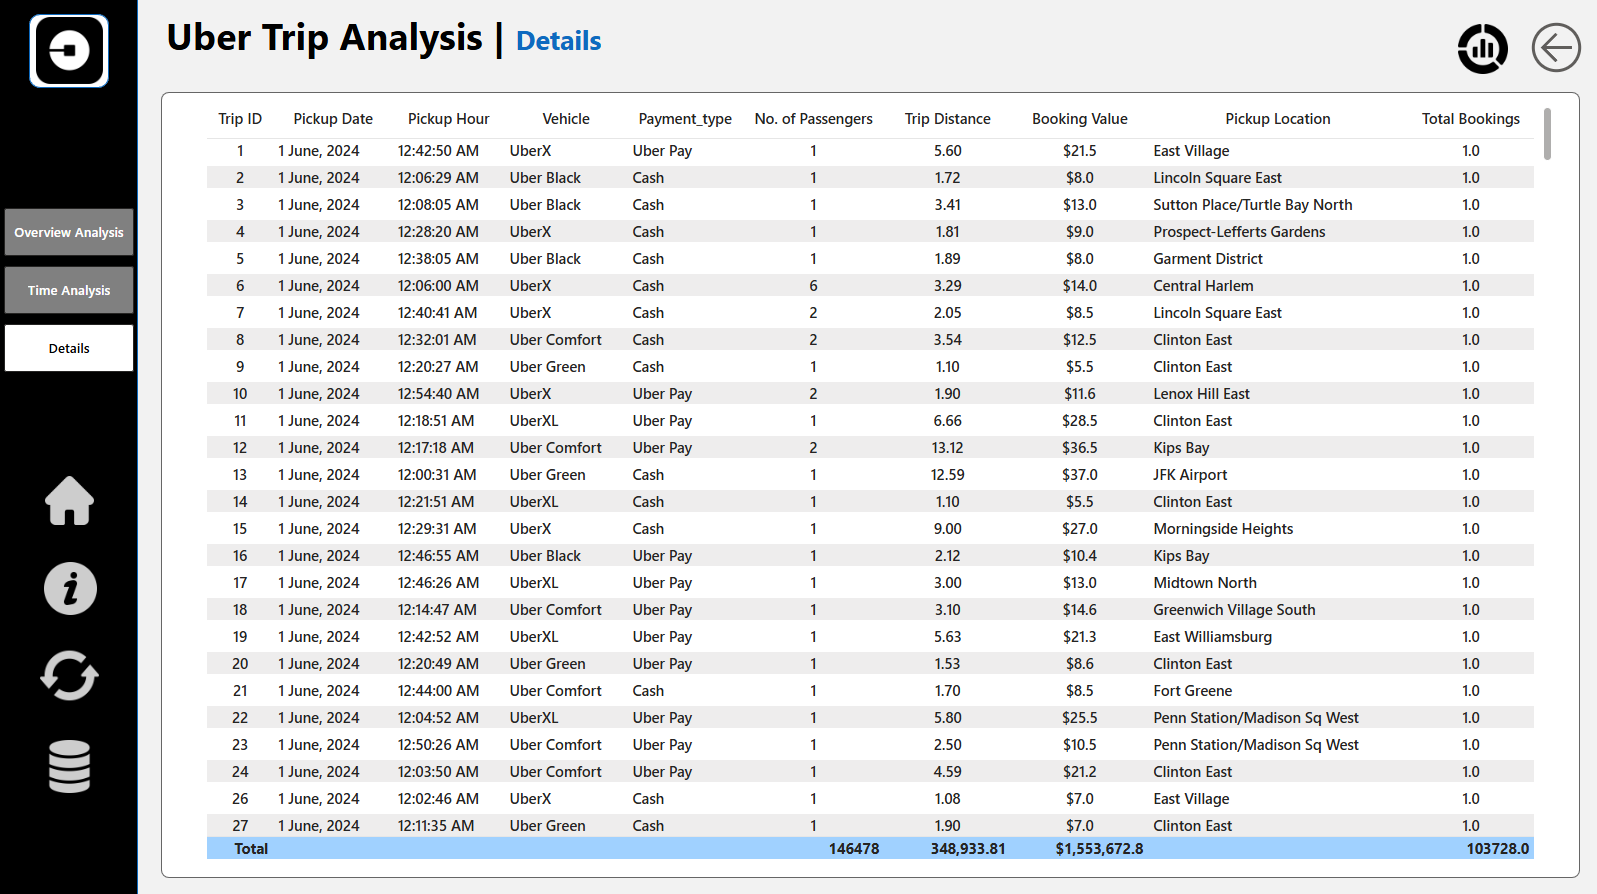

This screenshot's page, from the dashboard's own definition file:
{"tool":"powerbi","page":{"name":"Details","canvas":[1600,900],"ordinal":2},"visuals":[{"type":"shape","box":[0,0,139.4,900],"z":0},{"type":"shape","box":[30,16.2,79.9,74.9],"z":0,"group":"g1"},{"type":"image","box":[31.3,14.7,77.4,77.4],"z":1000,"group":"g1"},{"type":"textbox","box":[161.8,7.9,774.2,64],"z":1000},{"type":"shape","box":[162.2,94.9,1419,786.3],"z":2000},{"type":"tableEx","fields":{"Values":["Trip Details.Trip ID","Trip Details.Pickup Date","Trip Details.Pickup Hour (HH MM SS)","Trip Details.Vehicle","Trip Details.Payment_type","Sum(Trip Details.passenger_count)","Trip Details.Total Trip Distance Measure","Trip Details.Total Booking Value","Location Table.Location","Trip Details.Total Bookings"]},"box":[202.2,104.8,1355.4,762.6],"z":3000},{"type":"actionButton","box":[1526.4,18.7,62.4,63.7],"z":4000},{"type":"image","box":[1452.2,22,63.5,59.6],"z":5000},{"type":"group","id":"g1","title":"Group 1","box":[30,14.7,79.9,77.4],"z":6000},{"type":"pageNavigator","box":[5,210.9,129.8,164.7],"z":7000},{"type":"image","box":[34.9,474.3,71.1,58.7],"z":8000},{"type":"image","box":[31.2,560.4,79.9,62.4],"z":9000},{"type":"image","box":[32.4,644,76.1,68.6],"z":10000},{"type":"image","box":[34.9,737.6,71.1,63.7],"z":11000}]}

Visuals, with their boxes on the page's 1600x900 design canvas (x1, y1, x2, y2). These are canvas units, not pixel positions in the 1597x894 screenshot, which may show the page scaled, cropped or inside an application window:
shape: rect(0, 0, 139, 900)
shape: rect(30, 16, 110, 91)
image: rect(31, 15, 109, 92)
textbox: rect(162, 8, 936, 72)
shape: rect(162, 95, 1581, 881)
tableEx - Trip Details.Trip ID x Trip Details.Pickup Date: rect(202, 105, 1558, 867)
actionButton: rect(1526, 19, 1589, 82)
image: rect(1452, 22, 1516, 82)
"Group 1" group: rect(30, 15, 110, 92)
pageNavigator: rect(5, 211, 135, 376)
image: rect(35, 474, 106, 533)
image: rect(31, 560, 111, 623)
image: rect(32, 644, 108, 713)
image: rect(35, 738, 106, 801)
